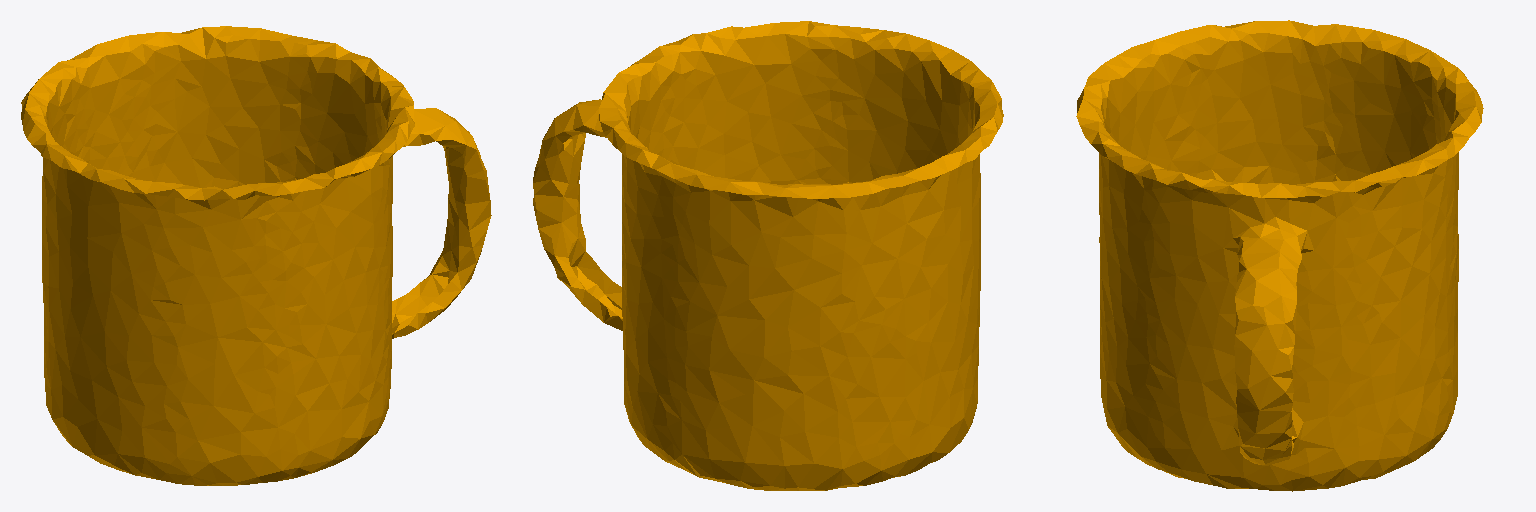
robot.urdf — mug:
<?xml version="1.0" encoding="UTF-8"?>
<robot name="mug">
	<link name="base">
		<collision>
			<geometry>
				<mesh filename="mug.obj"/>
			</geometry>
			<origin xyz="0 0 0"/>
		</collision>
		<visual>
			<geometry>
				<mesh filename="mug.obj"/>
			</geometry>
			<origin xyz="0 0 0"/>
		</visual>
		<inertial>
			<mass value="0.118"/>
			<inertia ixx="0.0001004803651206172" ixy="5.640251368416602e-07" ixz="-2.7059098071706033e-06" iyy="0.00011367603608816929" iyz="-2.4887595710328863e-06" izz="0.0001463811316906488" />
			<origin xyz="-0.010128402558423318 -0.0007865248130958034 -0.013434588910446747"/>
		</inertial>
	</link>
</robot>

--- Facts derived from the render (not from the file) ---
Views: 3 orthographic renders of the robot side by side, from view 1: azimuth 30°, elevation 25°; view 2: azimuth 150°, elevation 25°; view 3: azimuth 270°, elevation 25°.
Robot: mug — 1 links, 0 joints (none); root link base; default pose: every joint at zero.
Visible links, largest first — view 1: base; view 2: base; view 3: base.
Link boxes in pixels (x1=…): base: x1=21, y1=26, x2=491, y2=485; base: x1=533, y1=21, x2=1003, y2=490; base: x1=1076, y1=20, x2=1483, y2=491.
Bounding box of the posed robot: 0.1169 × 0.0928 × 0.0818 m (x, y, z).
Meshes: 1 distinct files referenced, 1 mesh visuals loaded (1 OBJ).